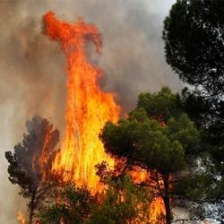fire: (33, 16, 171, 224)
smoke: (1, 2, 42, 152)
